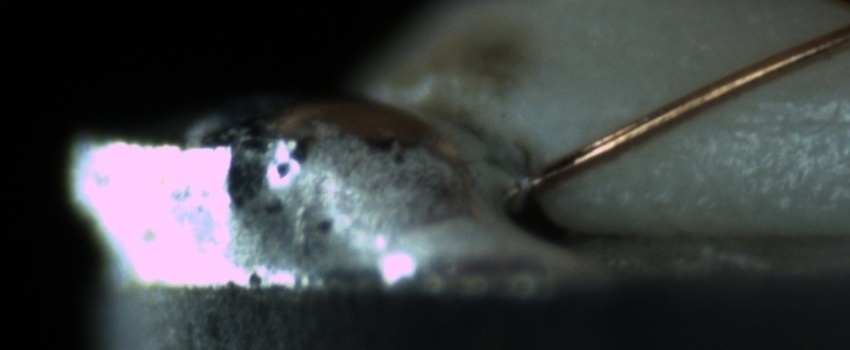DL: (684, 85, 850, 150)
